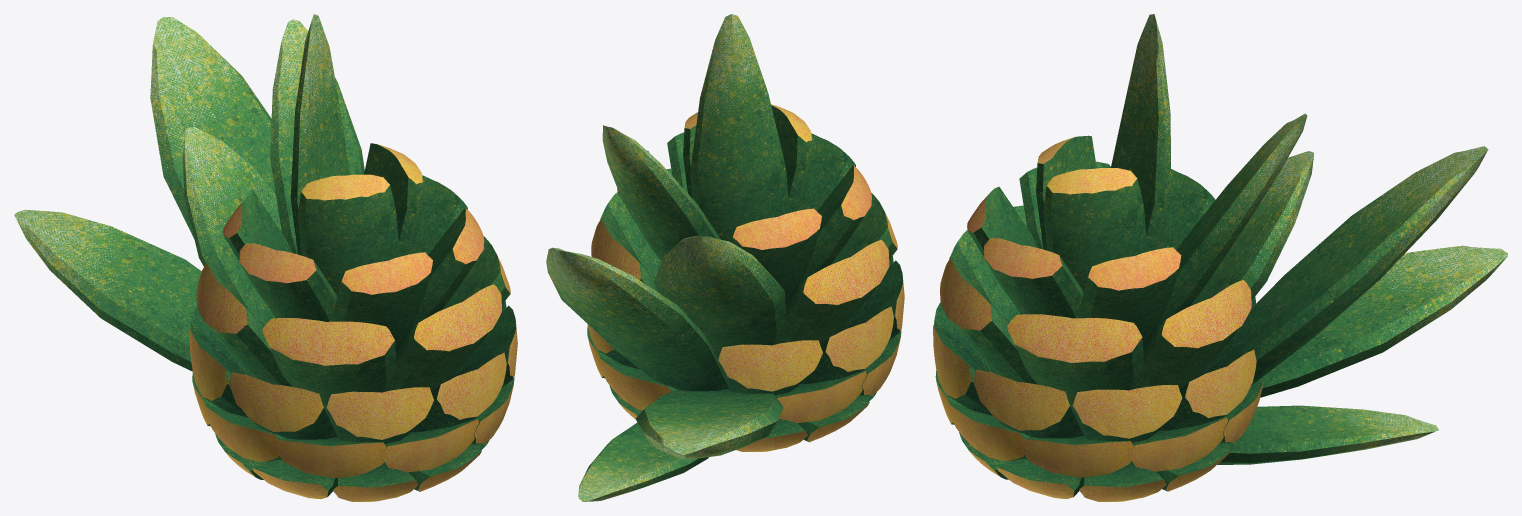
File: agave_texture.glb
3 renders of one model, left to right at view 1: azimuth 30°, elevation 25°; view 2: azimuth 150°, elevation 25°; view 3: azimuth 270°, elevation 25°, orthographic. The views are drawn at different scales.
Parts seen in each view (by area): view 1: agave-04.001, agave-05.001, agave-03.001, foglia-agave-02, agave-06.001, foglia-agave-03, agave-02.001, foglia-agave-04, agave-01.001, foglia-agave-06, foglia-agave-05; view 2: agave-04.001, agave-05.001, foglia-agave-03, agave-03.001, agave-06.001, foglia-agave-06, foglia-agave-04, foglia-agave-02, agave-02.001, foglia-agave-05, foglia-agave-01, agave-01.001; view 3: agave-04.001, agave-05.001, agave-03.001, foglia-agave-03, agave-06.001, foglia-agave-02, agave-02.001, foglia-agave-01, agave-01.001, foglia-agave-06, foglia-agave-05, foglia-agave-04.
Boxes of the visible parts, x1=… form: agave-04.001: x1=196, y1=211, x2=510, y2=407; agave-05.001: x1=223, y1=168, x2=484, y2=351; agave-03.001: x1=189, y1=301, x2=517, y2=443; foglia-agave-02: x1=14, y1=209, x2=201, y2=371; agave-06.001: x1=290, y1=143, x2=422, y2=296; foglia-agave-03: x1=150, y1=17, x2=275, y2=238; agave-02.001: x1=192, y1=373, x2=514, y2=478; foglia-agave-04: x1=182, y1=127, x2=278, y2=266; agave-01.001: x1=215, y1=434, x2=489, y2=501; foglia-agave-06: x1=292, y1=14, x2=345, y2=170; foglia-agave-05: x1=270, y1=19, x2=364, y2=184; agave-04.001: x1=591, y1=168, x2=897, y2=359; agave-05.001: x1=617, y1=132, x2=871, y2=305; foglia-agave-03: x1=546, y1=247, x2=715, y2=383; agave-03.001: x1=587, y1=256, x2=904, y2=395; agave-06.001: x1=683, y1=104, x2=811, y2=242; foglia-agave-06: x1=693, y1=14, x2=779, y2=157; foglia-agave-04: x1=654, y1=235, x2=784, y2=319; foglia-agave-02: x1=635, y1=392, x2=783, y2=459; agave-02.001: x1=587, y1=327, x2=901, y2=423; foglia-agave-05: x1=602, y1=125, x2=707, y2=238; foglia-agave-01: x1=578, y1=422, x2=708, y2=501; agave-01.001: x1=609, y1=385, x2=876, y2=451; agave-04.001: x1=940, y1=205, x2=1259, y2=405; agave-05.001: x1=967, y1=161, x2=1225, y2=348; agave-03.001: x1=933, y1=297, x2=1265, y2=442; foglia-agave-03: x1=1257, y1=146, x2=1488, y2=376; agave-06.001: x1=1036, y1=135, x2=1170, y2=292; foglia-agave-02: x1=1260, y1=245, x2=1507, y2=397; agave-02.001: x1=935, y1=371, x2=1264, y2=477; foglia-agave-01: x1=1217, y1=405, x2=1438, y2=464; agave-01.001: x1=959, y1=432, x2=1238, y2=501; foglia-agave-06: x1=1117, y1=14, x2=1170, y2=177; foglia-agave-05: x1=1201, y1=113, x2=1307, y2=259; foglia-agave-04: x1=1238, y1=151, x2=1313, y2=289.
Size of the model in its own units: 0.8399 by 1.17 by 1.39.
1 material, 1 textured.
